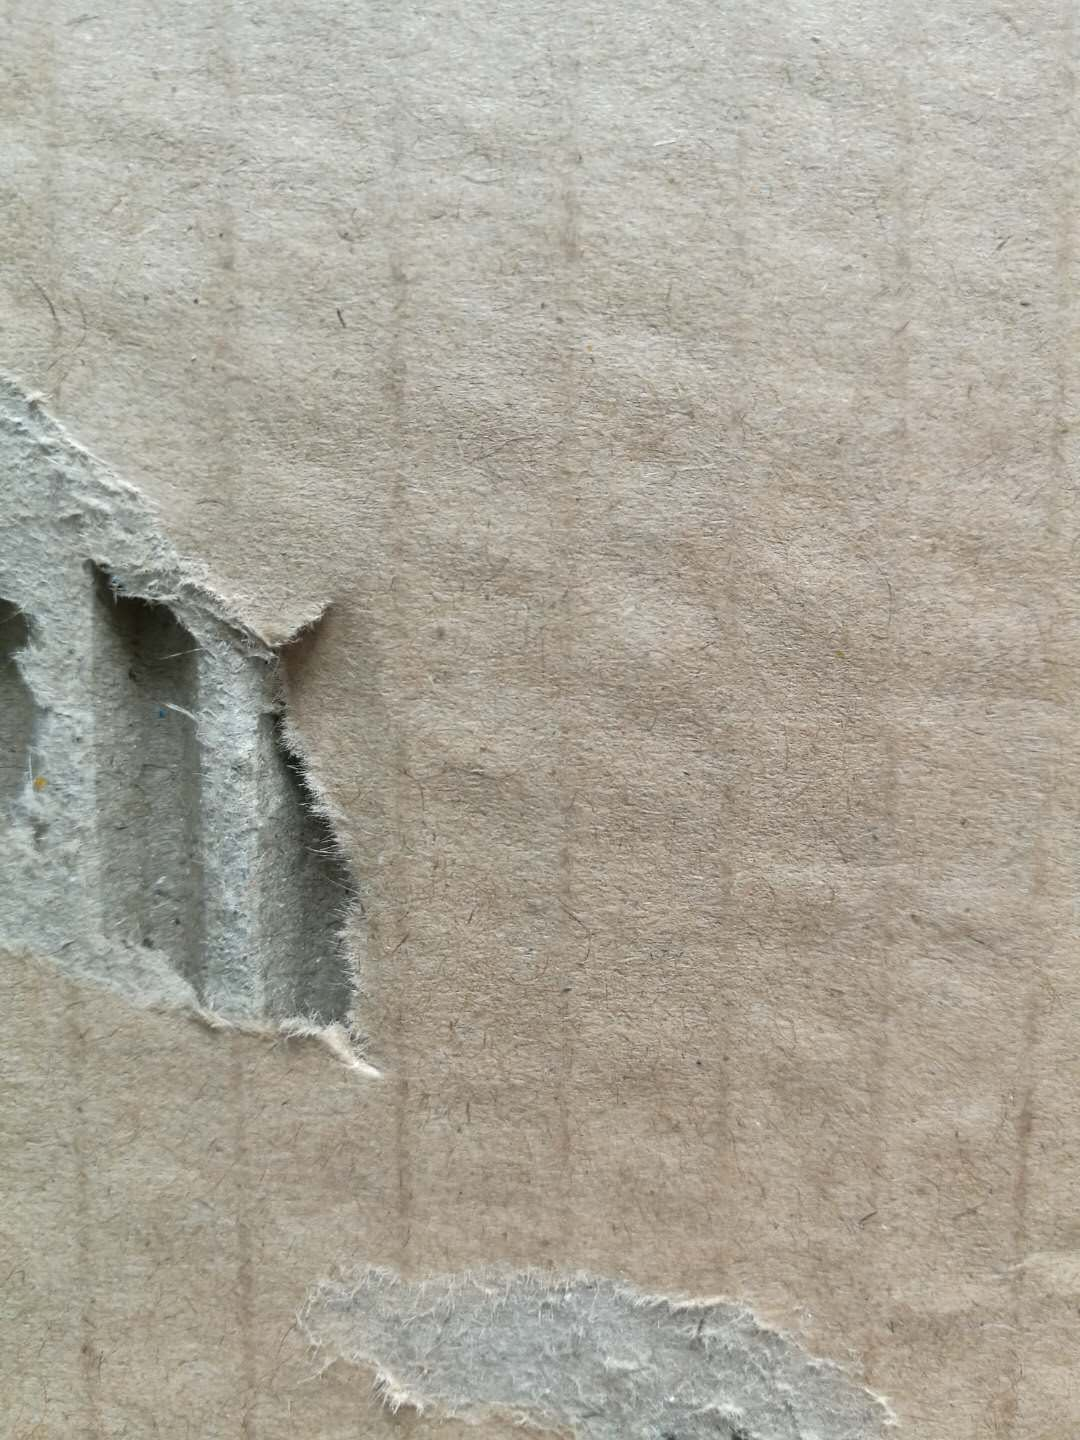defect: (1, 319, 440, 1121), (272, 1225, 946, 1440)
